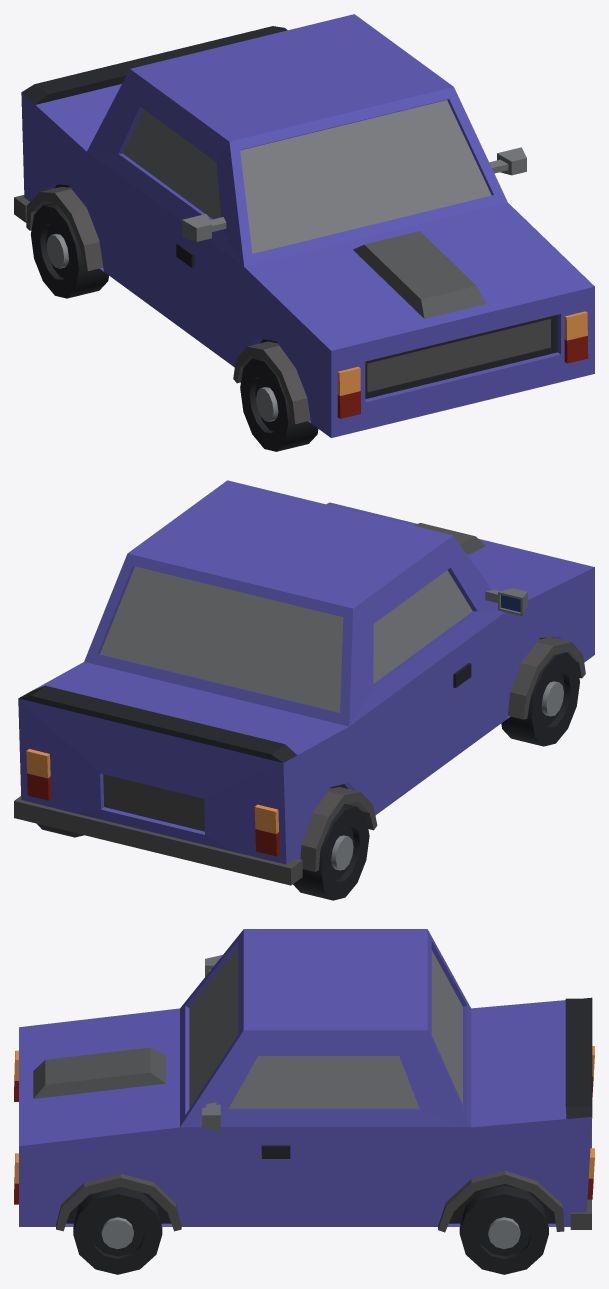
Rendered from Car_11.fbx.
The picture shows the model from 3 angles, top to bottom: view 1: azimuth 30°, elevation 25°; view 2: azimuth 150°, elevation 25°; view 3: azimuth 270°, elevation 25°; orthographic projection. The views are drawn at different scales.
Parts seen in each view (by area): view 1: Car_11; view 2: Car_11; view 3: Car_11.
Part boxes in pixels (x1,y1,x2,y2): Car_11: [14, 14, 594, 451]; Car_11: [14, 480, 594, 900]; Car_11: [14, 929, 594, 1274].
Bounding box in the file's own units: 188 × 133 × 303.
